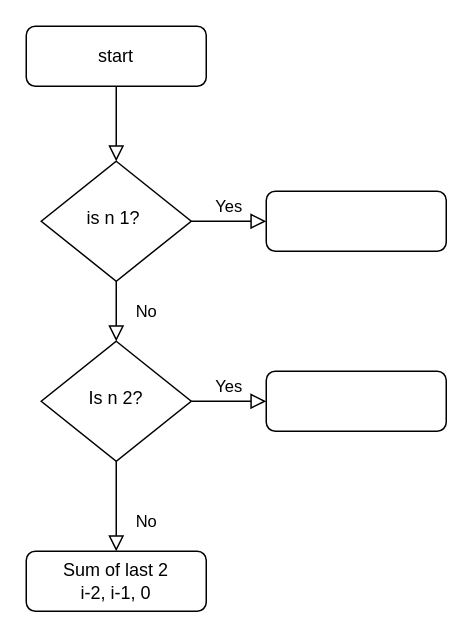
The diagram is 473 pixels wide and 638 high, and some of its shapes have lost their labels. The box of each missing label's shape, as (x1, y1, x2, y2) in pixels:
Output [0]: (265, 190, 446, 251)
Output[0,1]: (265, 370, 446, 431)
